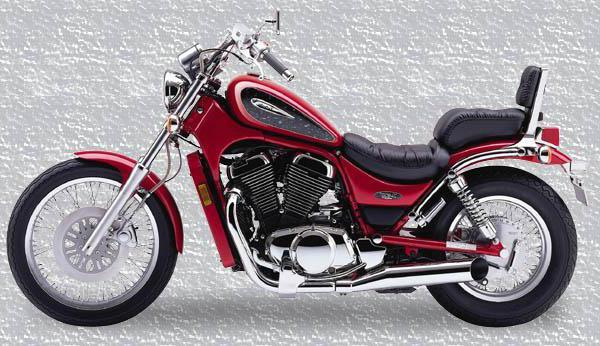motorcycle: (5, 2, 594, 339)
